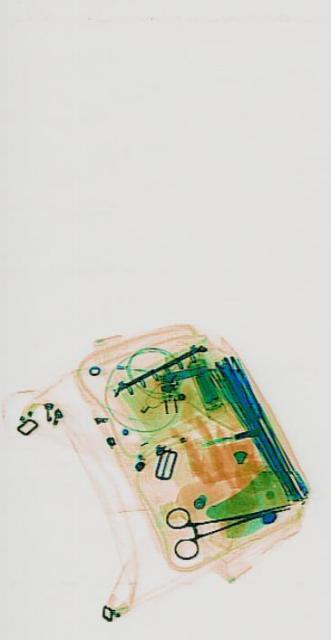Scissors: (164, 479, 291, 563)
